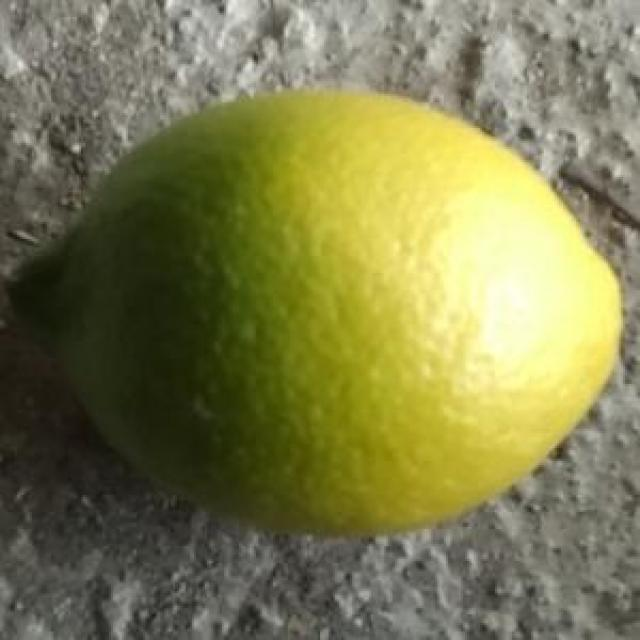lemon: (6, 84, 636, 526)
